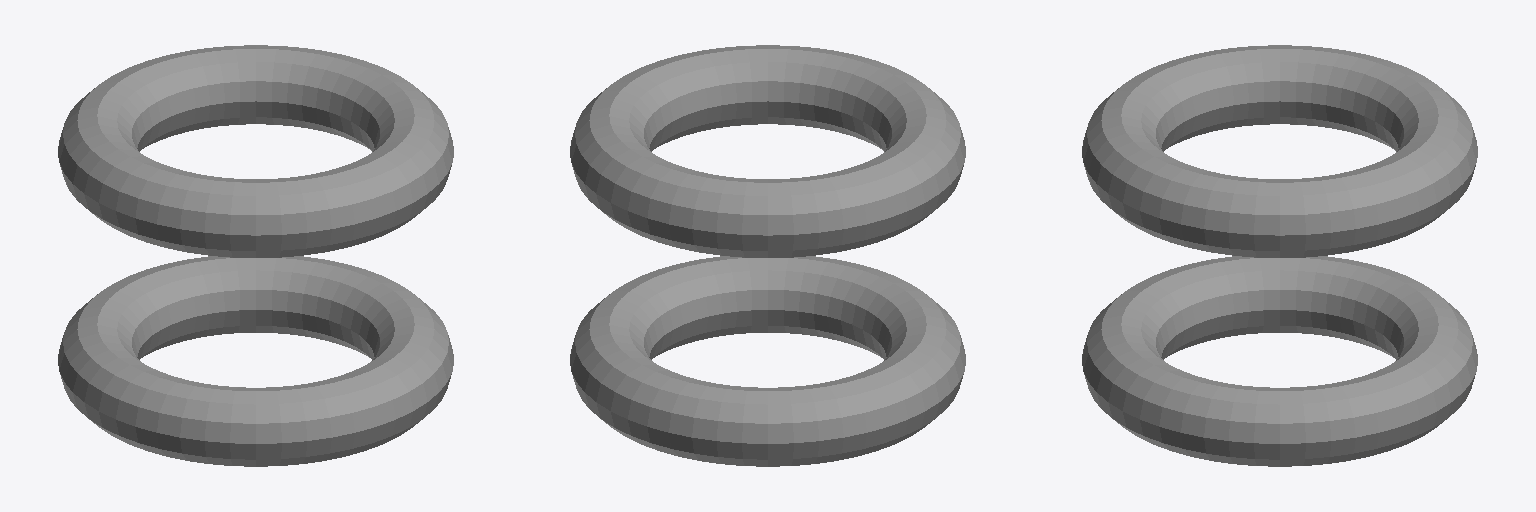
File: wormhole_former.obj
3 renders of one model, left to right at view 1: azimuth 30°, elevation 25°; view 2: azimuth 150°, elevation 25°; view 3: azimuth 270°, elevation 25°, orthographic.
Visible parts, largest first — view 1: Torus.001_Torus.002, Torus; view 2: Torus.001_Torus.002, Torus; view 3: Torus.001_Torus.002, Torus.
Boxes of the visible parts, x1=… form: Torus.001_Torus.002: x1=58, y1=45, x2=453, y2=257; Torus: x1=58, y1=256, x2=453, y2=466; Torus.001_Torus.002: x1=570, y1=45, x2=965, y2=257; Torus: x1=570, y1=256, x2=965, y2=466; Torus.001_Torus.002: x1=1082, y1=45, x2=1477, y2=257; Torus: x1=1082, y1=256, x2=1477, y2=466.
Size of the model in its own units: 0.9158 by 0.7139 by 0.9158.